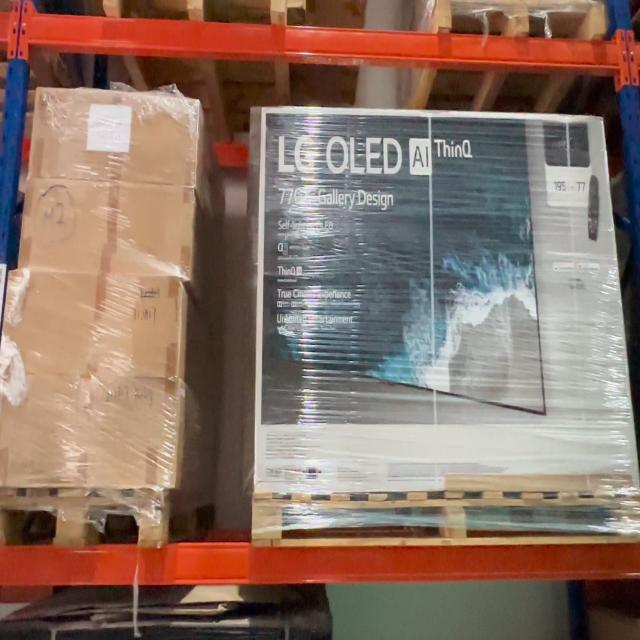box: (261, 116, 603, 494), (0, 376, 174, 487), (9, 280, 174, 375), (24, 179, 192, 266), (37, 100, 196, 178)
